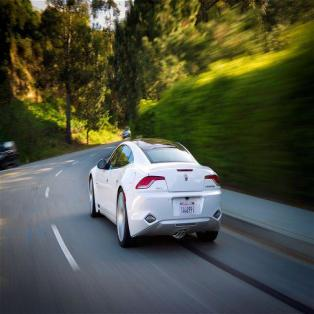Auto: (86, 134, 223, 250)
